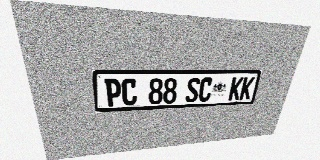8: (148, 78, 164, 104), (162, 78, 178, 104)
C: (121, 78, 137, 106), (198, 77, 213, 102)
K: (228, 77, 244, 100), (239, 77, 255, 100)
P: (104, 78, 121, 107)
S: (185, 78, 201, 103)
